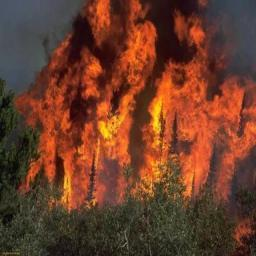Large fire: (15, 0, 256, 225)
Small fire: (231, 220, 255, 243)
